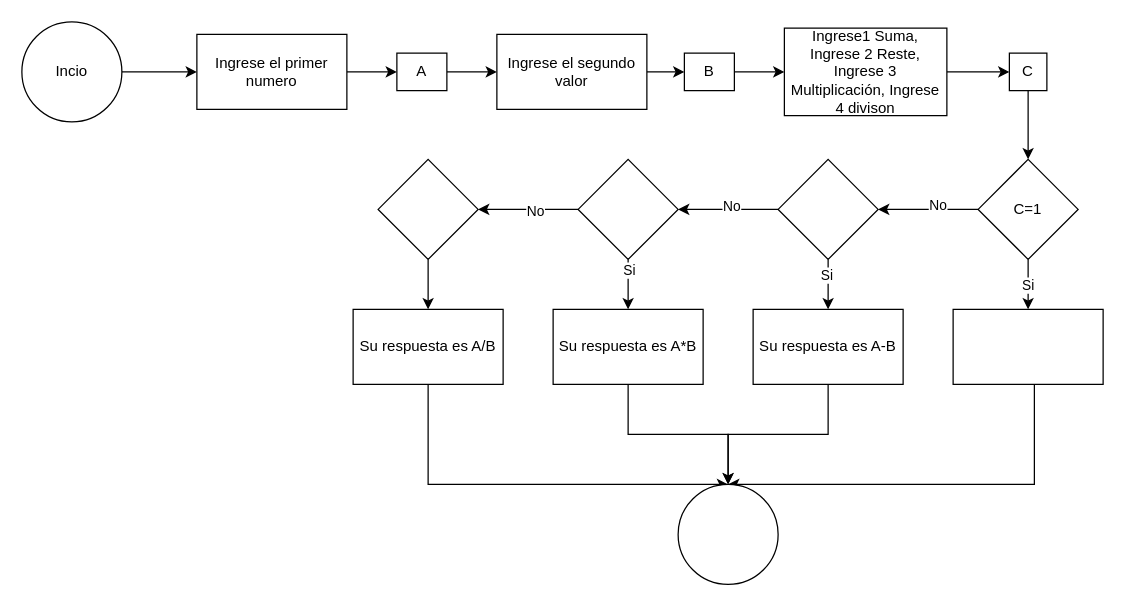
Image size: 1125x606. Some labels were removed from this diagram. The shapes that lost their labels are listed below. From the top down, each one's box as (x1, y1, x2, y2) in pixels, then its label:
(377, 158, 478, 259): C=4
(577, 158, 678, 259): C=3
(777, 158, 878, 259): C=2
(952, 308, 1103, 384): Su respuesta es A+B
(677, 483, 778, 584): Fin
